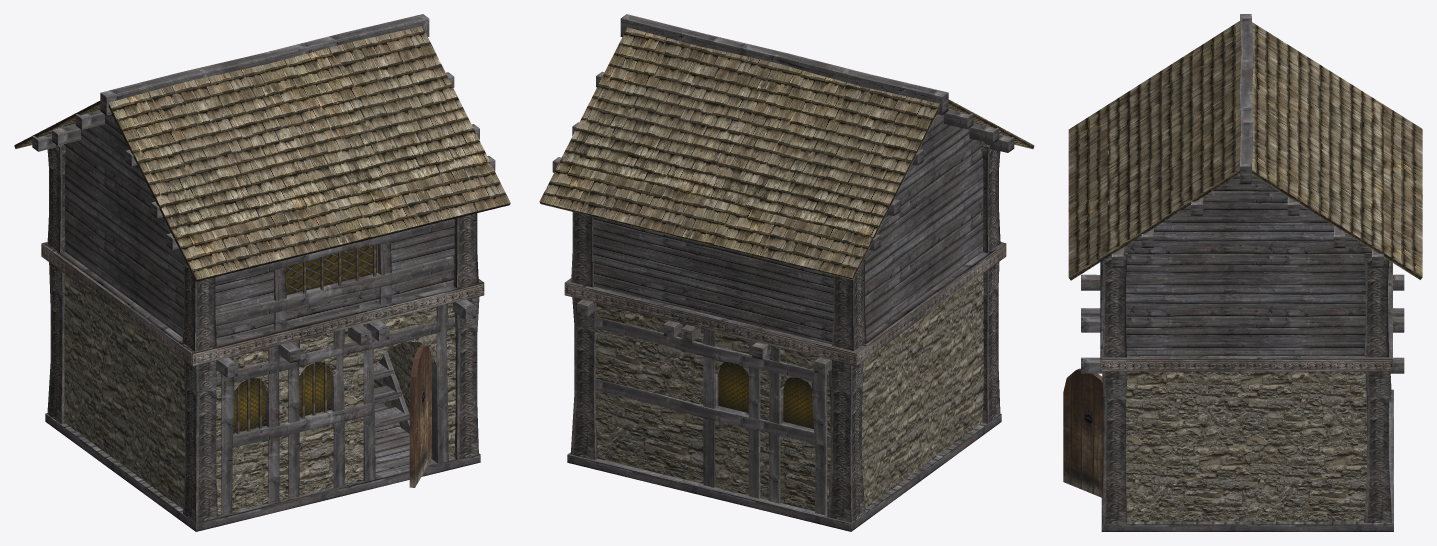
File: v3_house5.dae
The picture shows the model from 3 angles, left to right: view 1: azimuth 30°, elevation 25°; view 2: azimuth 150°, elevation 25°; view 3: azimuth 270°, elevation 25°; orthographic projection. The views are drawn at different scales.
Visible parts, largest first — view 1: roof_01, WoodPlanks, bricks_old_03, WoodPlanks_ornaments, dorwindow_set, windows2_c; view 2: roof_01, WoodPlanks, bricks_old_03, WoodPlanks_ornaments, windows2_c; view 3: roof_01, WoodPlanks, bricks_old_03, WoodPlanks_ornaments, dorwindow_set.
Boxes of the visible parts, box(x1,y1,x2,y2) form: roof_01: box(14, 26, 510, 281); WoodPlanks: box(32, 14, 495, 531); bricks_old_03: box(64, 274, 455, 515); WoodPlanks_ornaments: box(41, 144, 484, 523); dorwindow_set: box(236, 245, 431, 487); windows2_c: box(233, 244, 377, 433); roof_01: box(539, 27, 1034, 280); WoodPlanks: box(552, 14, 1014, 531); bricks_old_03: box(595, 274, 983, 513); WoodPlanks_ornaments: box(564, 144, 1006, 522); windows2_c: box(718, 361, 813, 428); roof_01: box(1068, 21, 1422, 280); WoodPlanks: box(1081, 14, 1404, 531); bricks_old_03: box(1126, 371, 1366, 521); WoodPlanks_ornaments: box(1100, 253, 1392, 523); dorwindow_set: box(1063, 368, 1103, 497).
Bounding box in the file's own units: 4.97 × 5.7 × 4.95.
